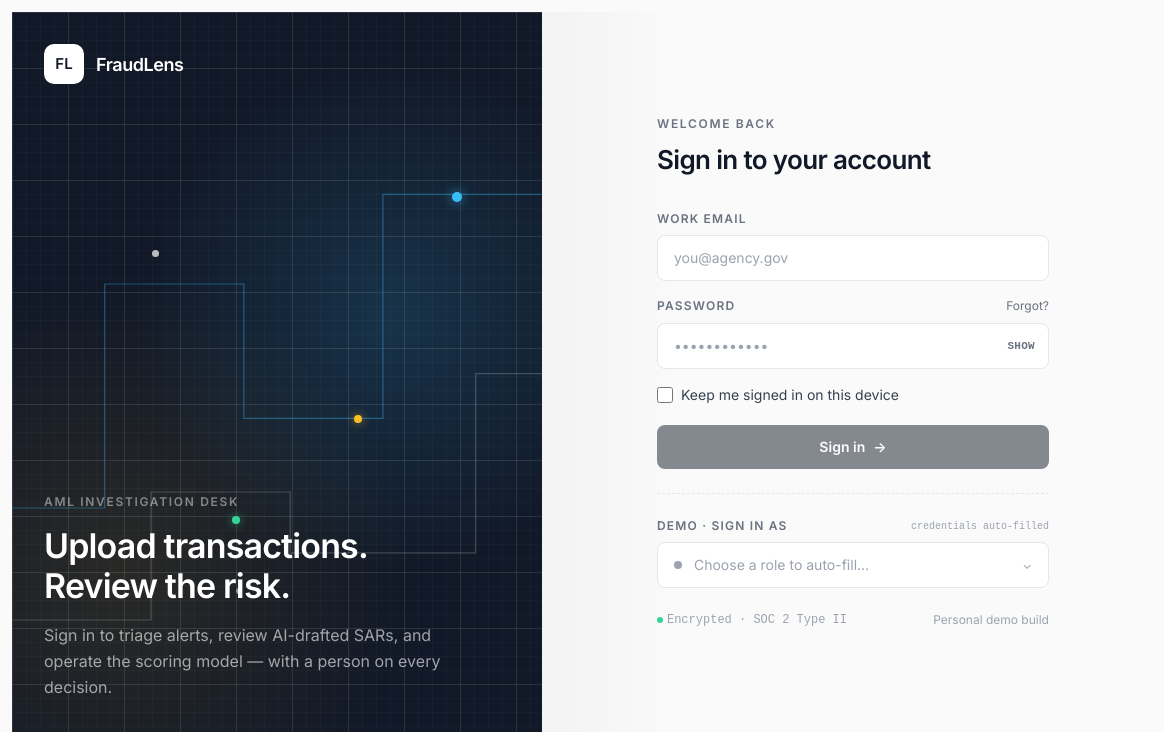
Test: Login › auto-fills the email and password when a demo role is chosen
The width and height of the screenshot is (1164, 732).
Click the button named "Demo · sign in as" at (853, 565), box x1=657 y1=542 x2=1049 y2=588
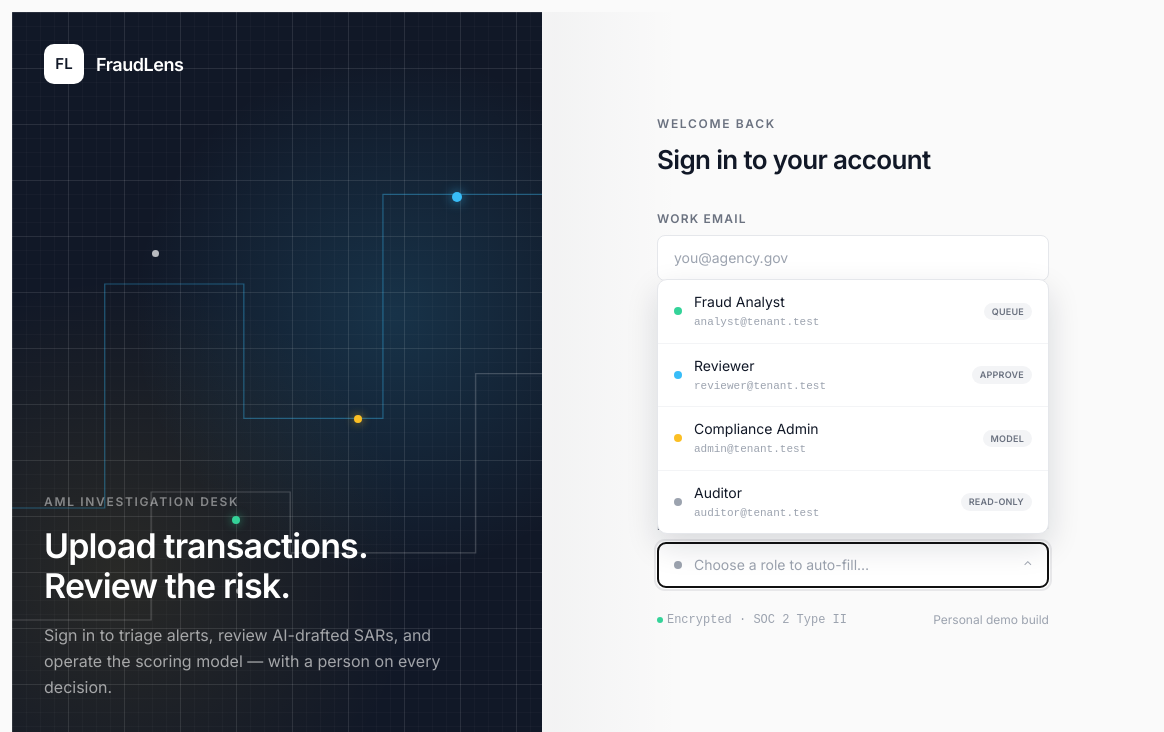
Click the option "Reviewer reviewer@tenant.test Approve" at (724, 365), box x1=658 y1=344 x2=1048 y2=407
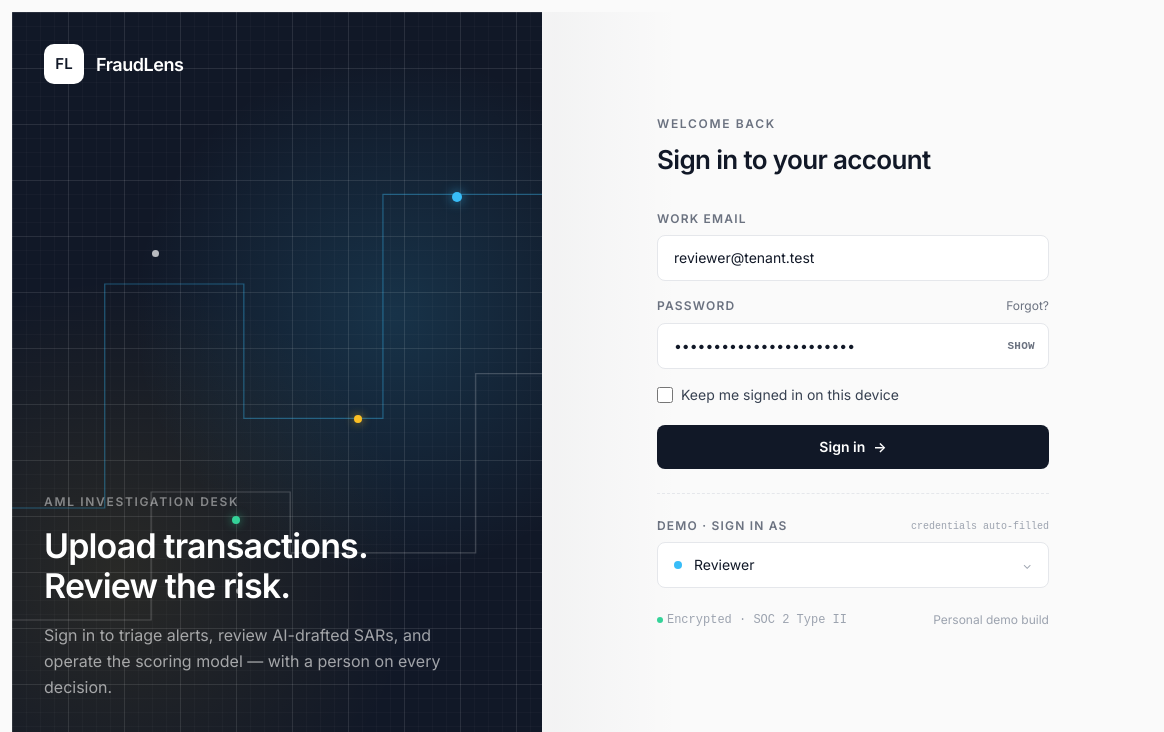
Expected: the password field labelled "Password" holds "synthetic-test-password", x1=657 y1=323 x2=1049 y2=369
